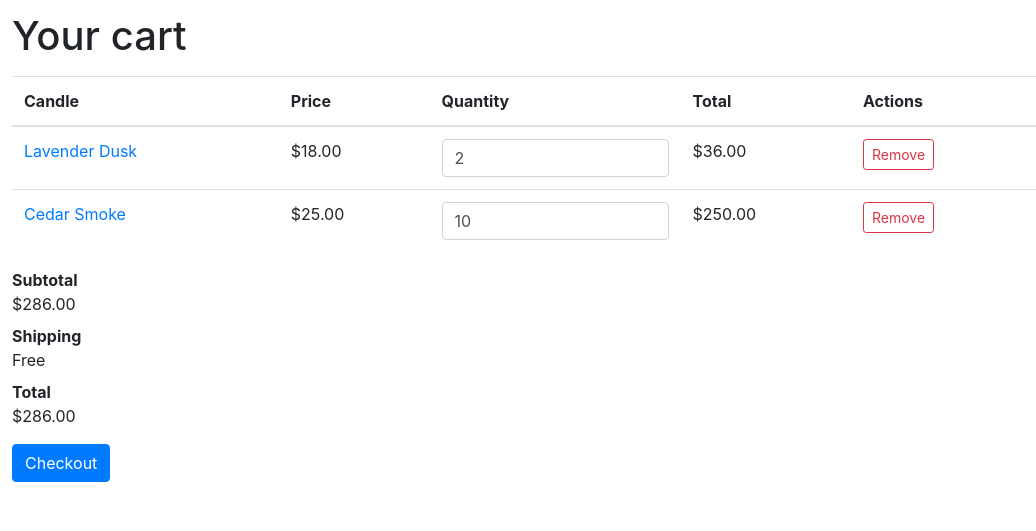
Scenario: CartComponent › [BR-C2] puts the cap back in the input of a line already at the cap
The width and height of the screenshot is (1036, 531).
Replace the text in the number field in the row of "Cedar Smoke" with "15": [555, 221] box [442,202,669,240]
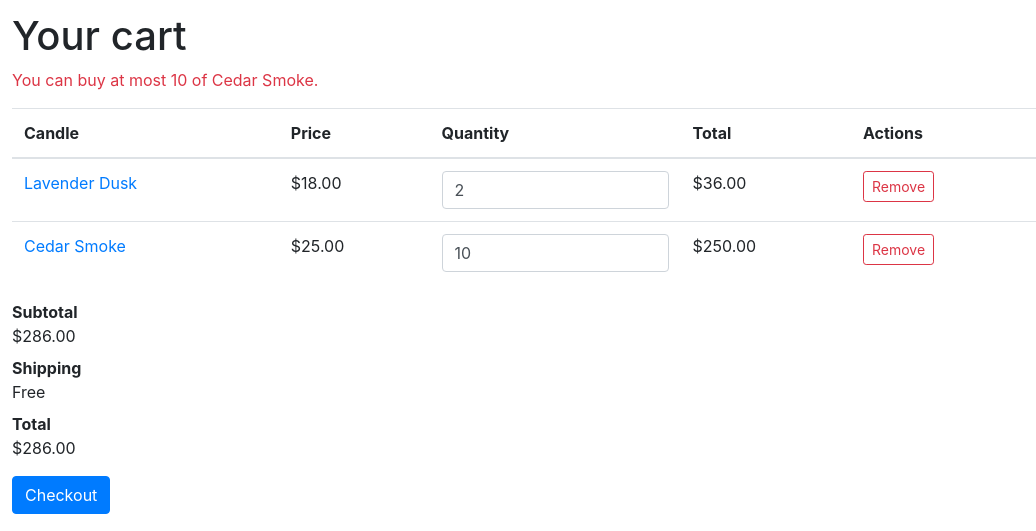
Check: the message "You can buy at most 10 of Cedar Smoke." is shown, box [12,70,318,90]
